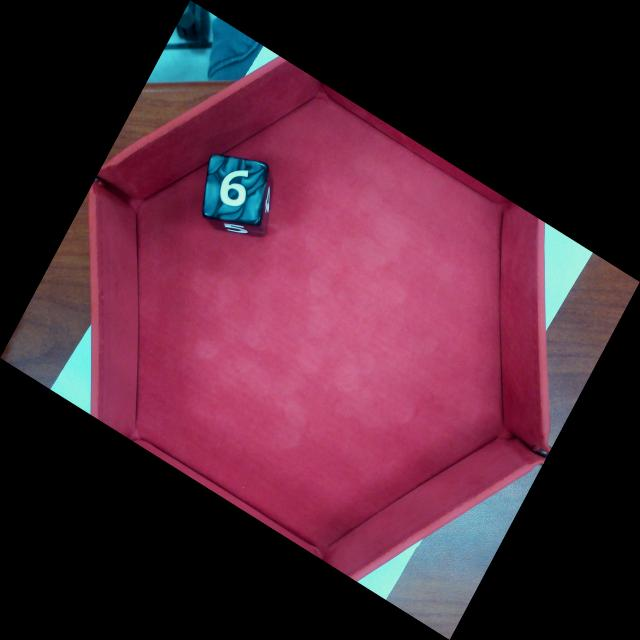dice: (202, 155, 267, 226)
